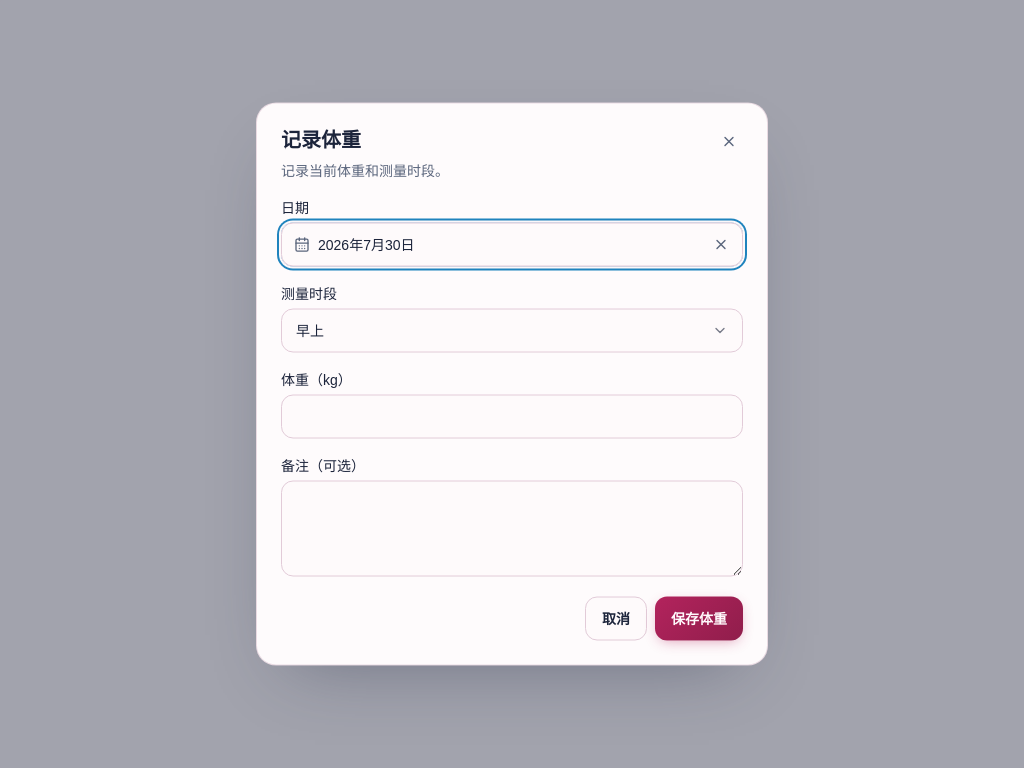
WeightDialog › keeps the dialog open and exposes submit errors
Type "55.25" into the number field labelled "体重（kg）" at (512, 416), box [281, 394, 743, 438]
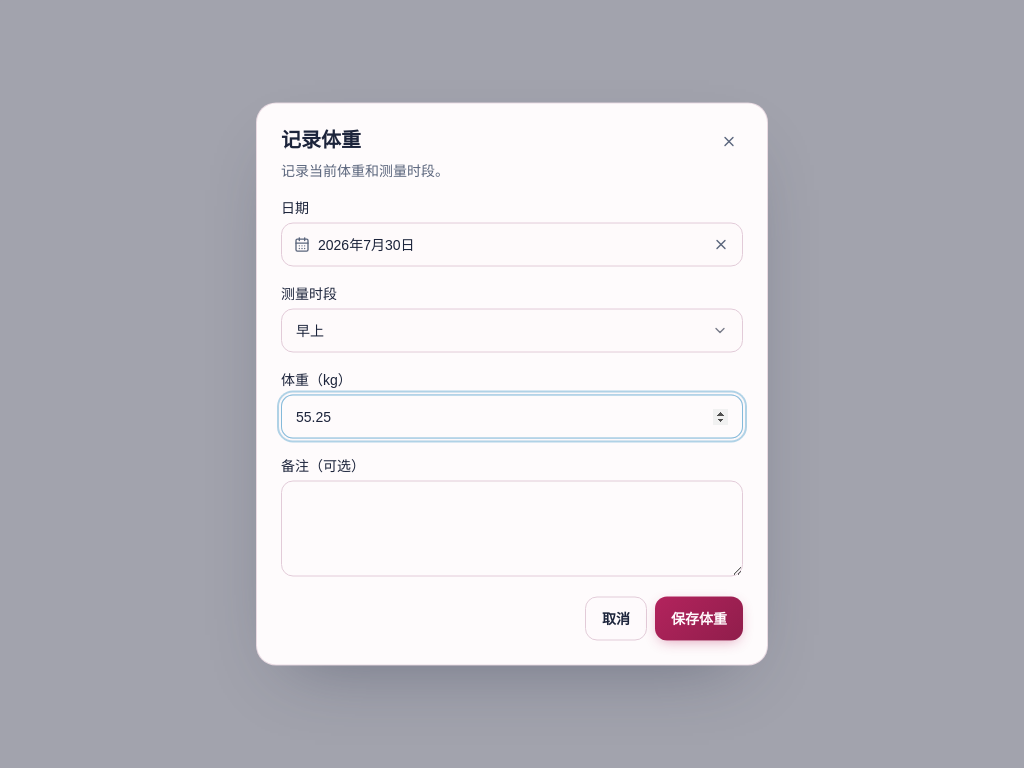
Click the button "保存体重" at (699, 618), box [655, 596, 743, 640]
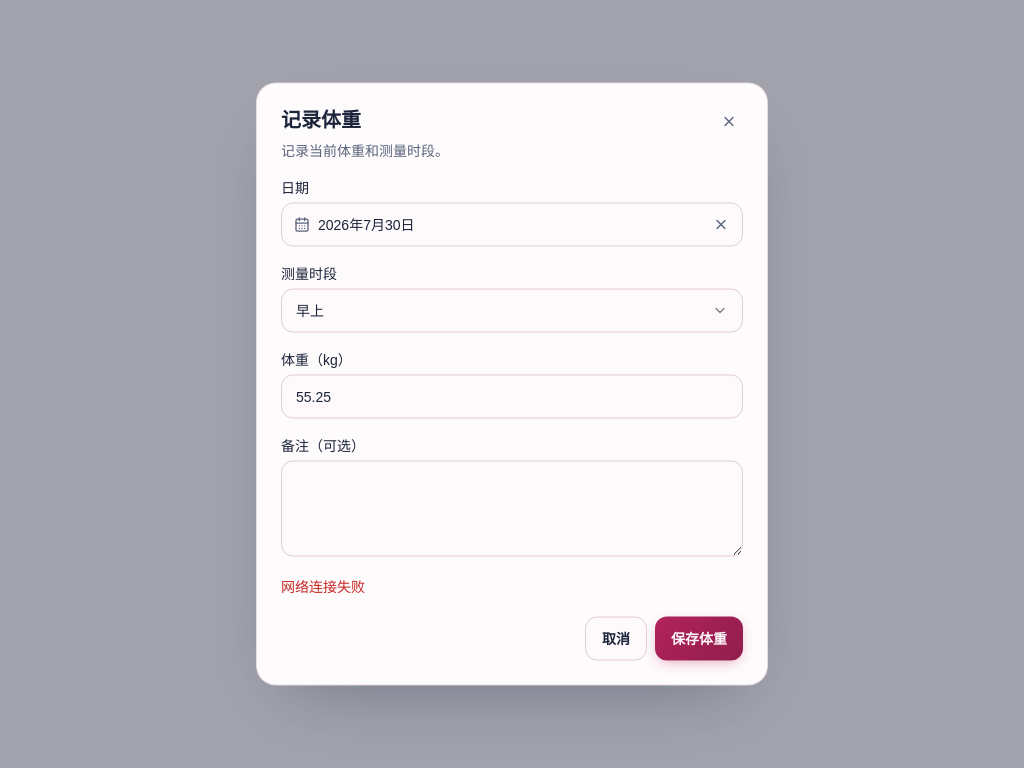
Check: the dialog "记录体重" is shown, box [256, 82, 768, 686]
Check: the message reads "网络连接失败", box [281, 578, 365, 594]
